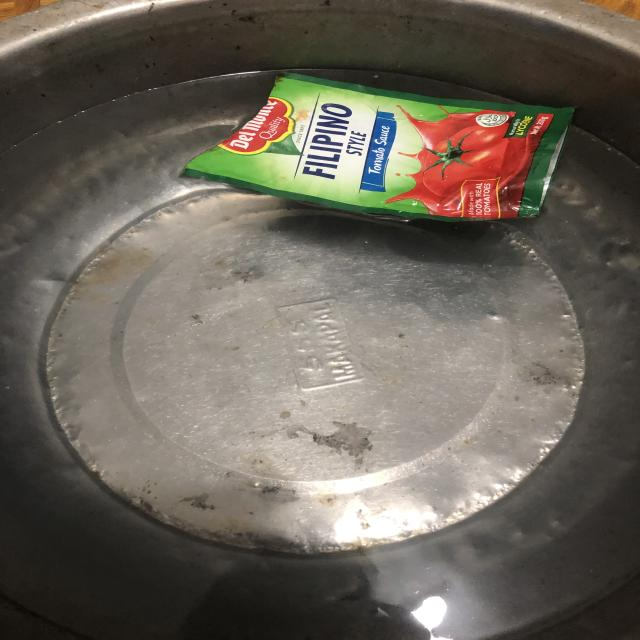Plastic Pouch: (182, 73, 573, 222)
